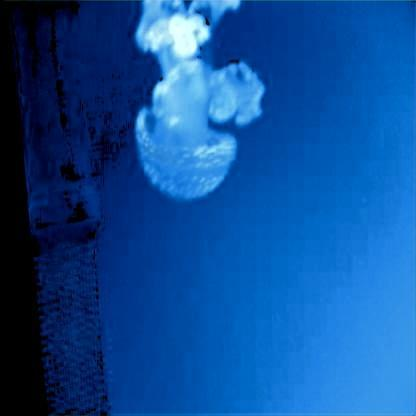LionMane: (134, 0, 267, 205)
